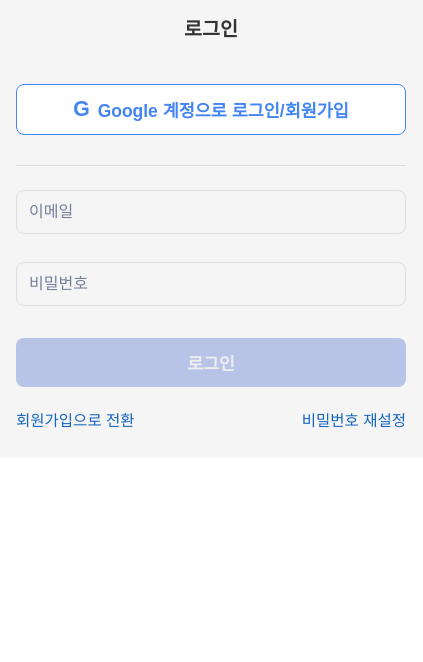
Test: AuthForm › 로그인/회원가입 폼 전환 UI
Expected: the heading "로그인" is shown, [184,16,238,40]
Click the text "회원가입으로 전환" at (75, 418), box [16,408,135,430]
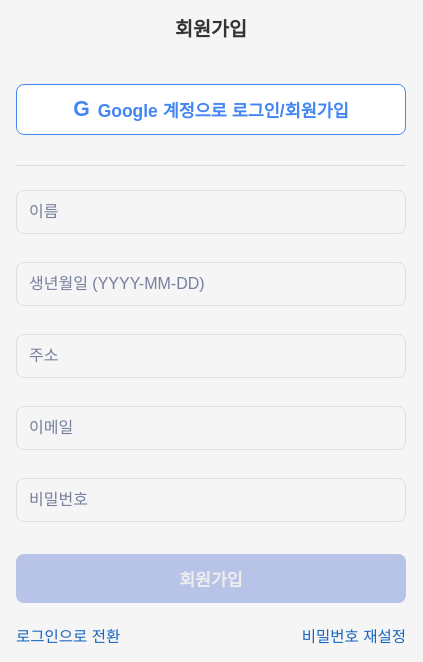
Now the heading "회원가입" is shown, box [175,16,247,40]
Click the text "로그인으로 전환" at (68, 634), box [16,624,120,646]
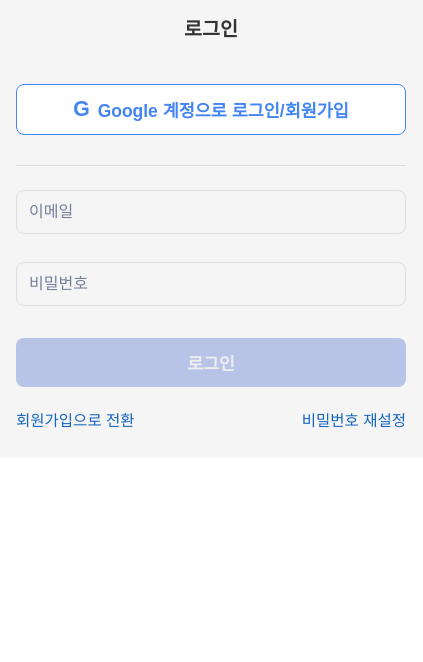
Now the heading "로그인" is shown, box [184,16,238,40]
